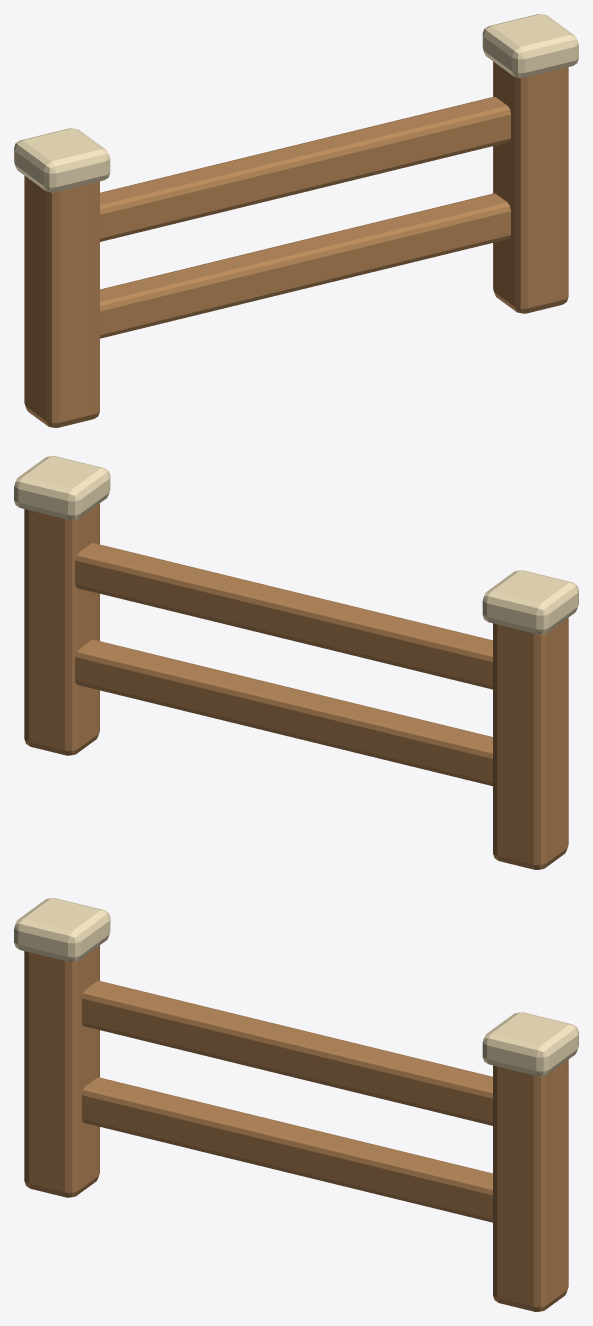
The model's file is SM_Fence.fbx.
3 renders of one model, top to bottom at view 1: azimuth 30°, elevation 25°; view 2: azimuth 150°, elevation 25°; view 3: azimuth 330°, elevation 25°, orthographic.
Visible parts, largest first — view 1: FenceMesh; view 2: FenceMesh; view 3: FenceMesh.
Part boxes in pixels (box(x1,y1,x2,y2)): FenceMesh: box(14, 14, 578, 427); FenceMesh: box(14, 456, 578, 869); FenceMesh: box(14, 898, 578, 1311).
Size of the model in its own units: 1.62 by 0.785 by 0.2.
